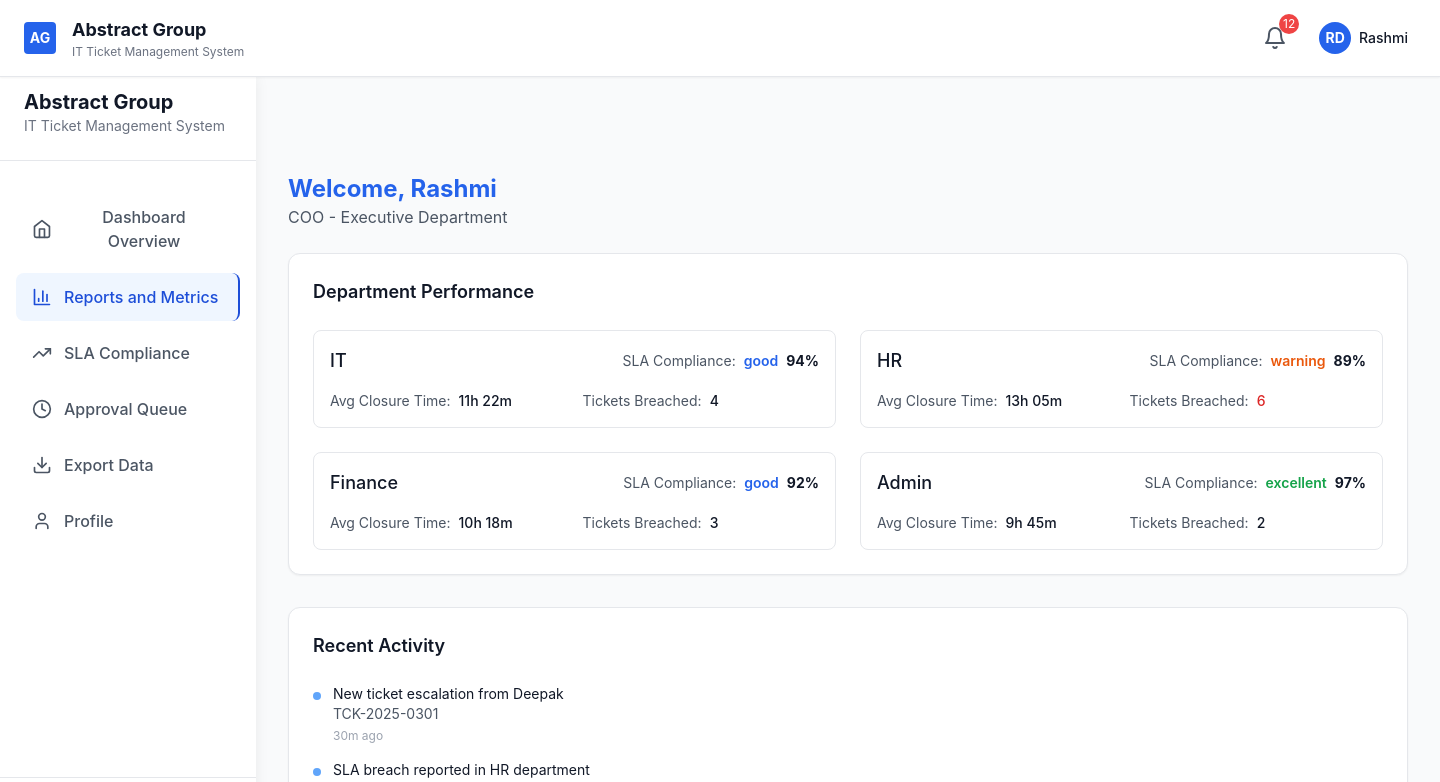
Test case: COODashboard - unit tests › renders Reports view and KPI cards by default
Expected: the heading "Department Performance" is shown, [313, 281, 534, 302]
Click the button "Dashboard Overview". click: (128, 229)
box: [16, 193, 240, 265]
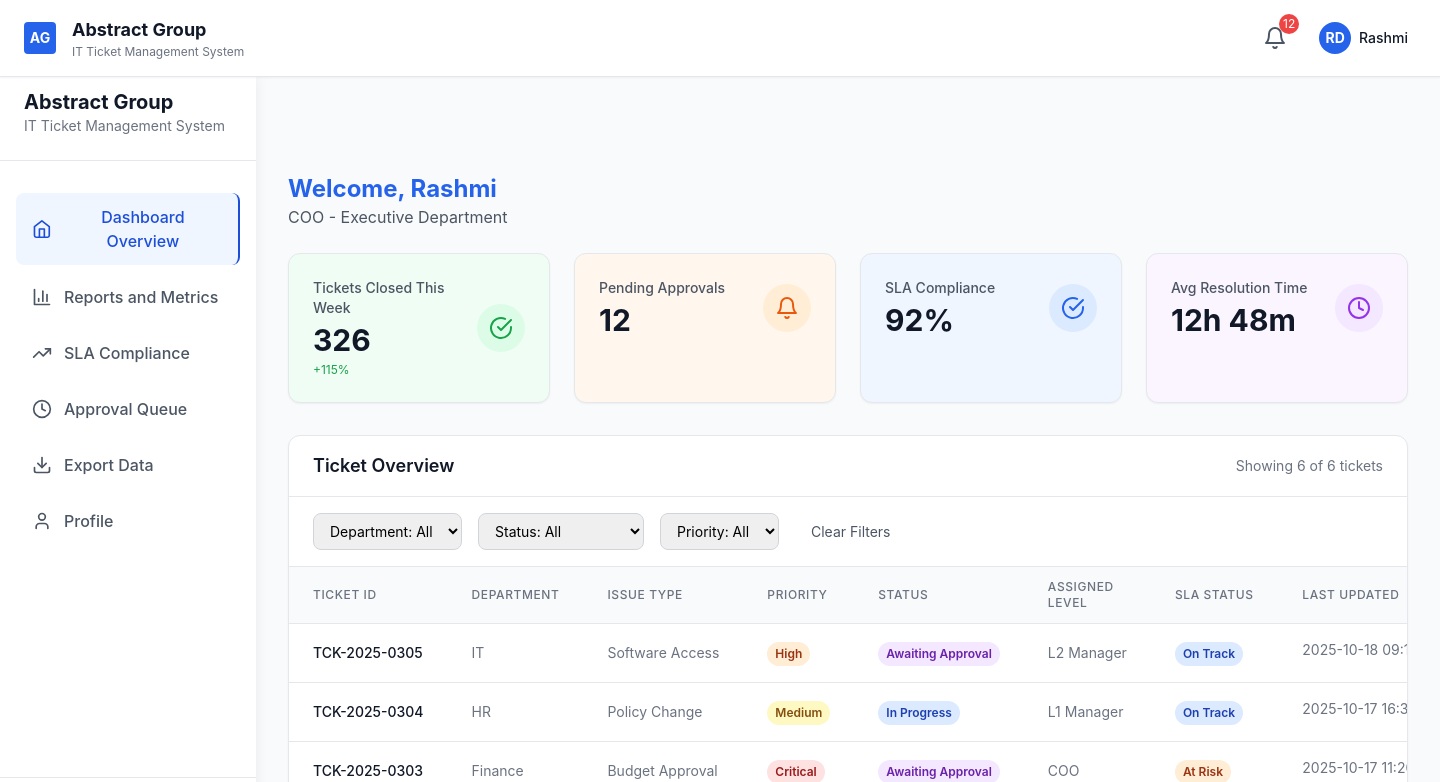
Now the text "Tickets Closed This Week" is shown, box [313, 279, 444, 316]
Now the text "Pending Approvals" is shown, box [599, 278, 725, 298]
Now the text "Avg Resolution Time" is shown, box [1171, 278, 1308, 298]
